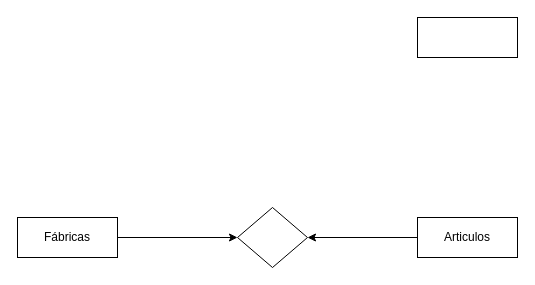
The diagram is 535 pixels wide and 285 high, and some of its shapes have lost their labels. Each missing label, with the centre of its shape:
"Clientes" goes at point 467,37.
"provee" goes at point 272,237.
